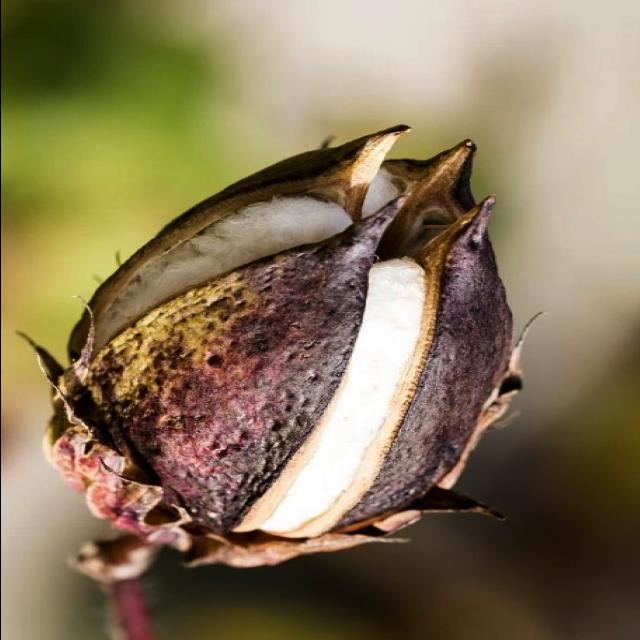Split Cotton Boll: (100, 157, 518, 562)
